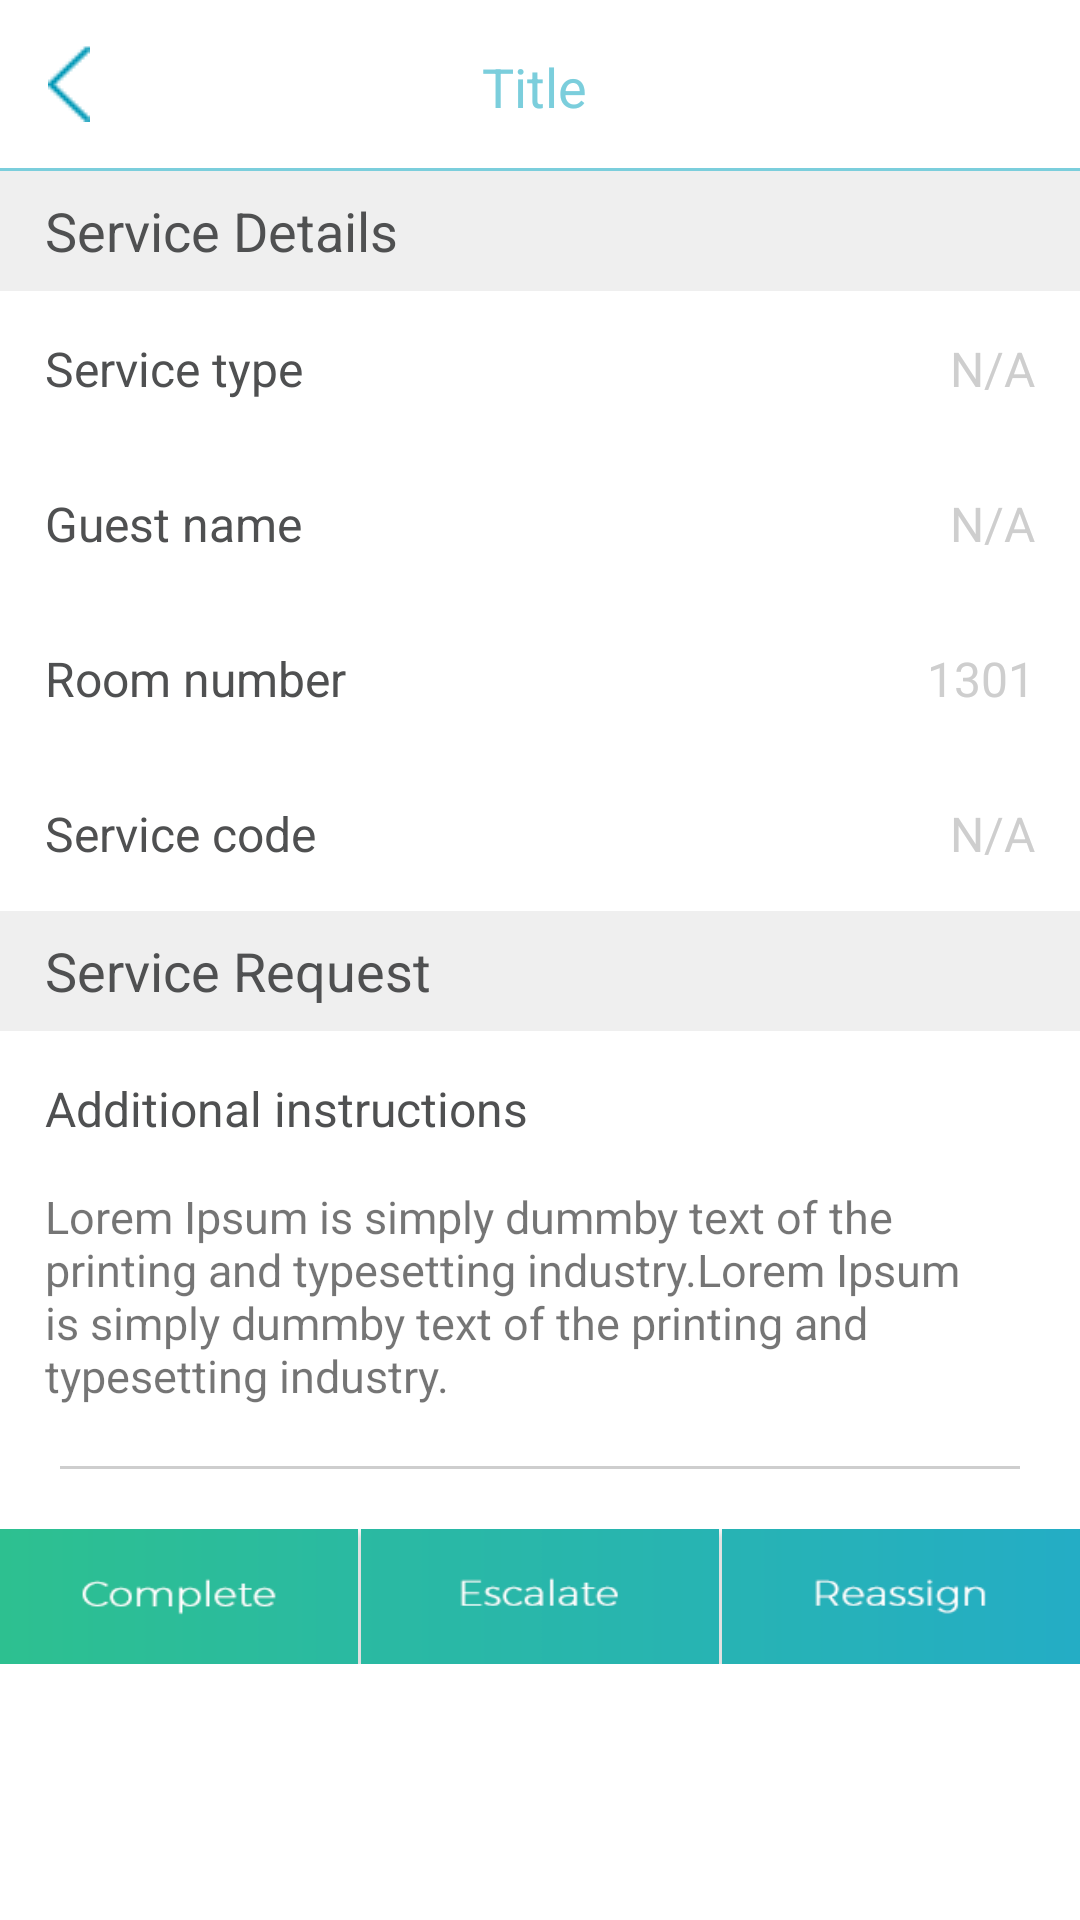

Screen size 1080px×1920px. Icon name, then its box in pixels as [x1, y1, x2, y2]:
left arrow: [48, 46, 90, 122]
